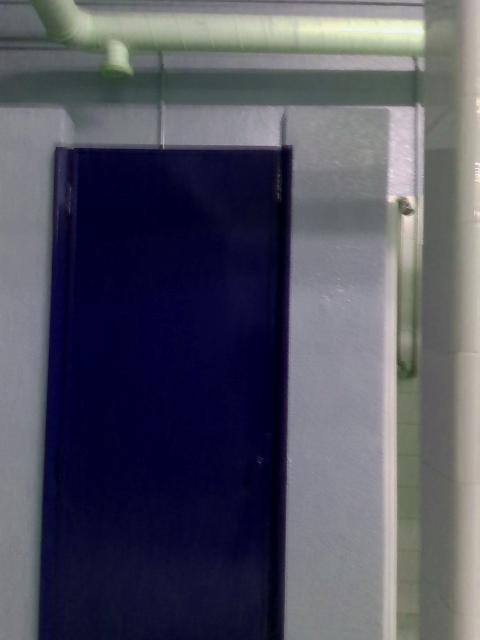closed_door: (33, 145, 291, 638)
